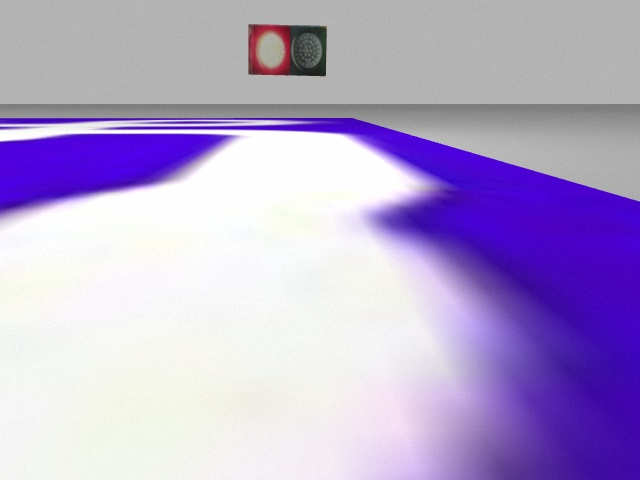red: (250, 21, 290, 74)
